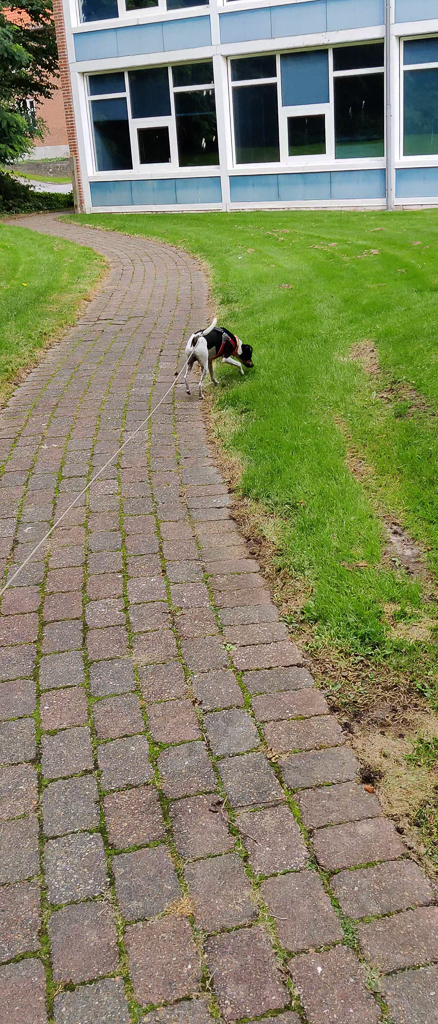Dog: (172, 310, 267, 404)
